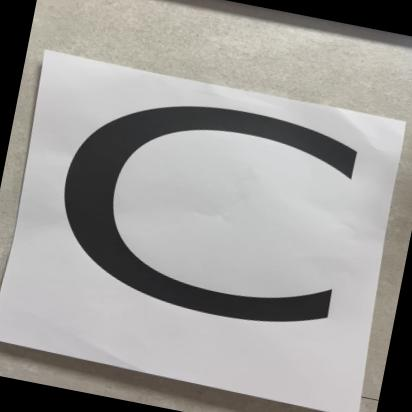seat: (3, 57, 412, 412)
